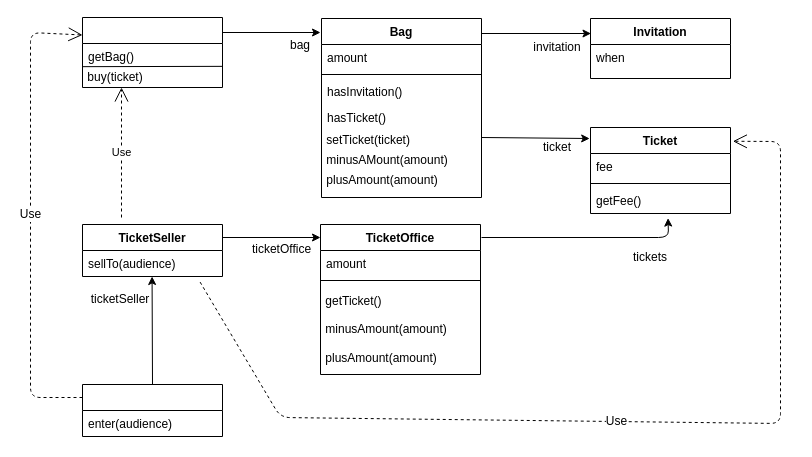
Some shapes in this 812 by 457 pixel diagram are drawn without their labels. The box of each missing label's shape, as (x1, y1, x2, y2) in pixels:
Audience: (82, 16, 222, 88)
Theater: (82, 384, 222, 436)
